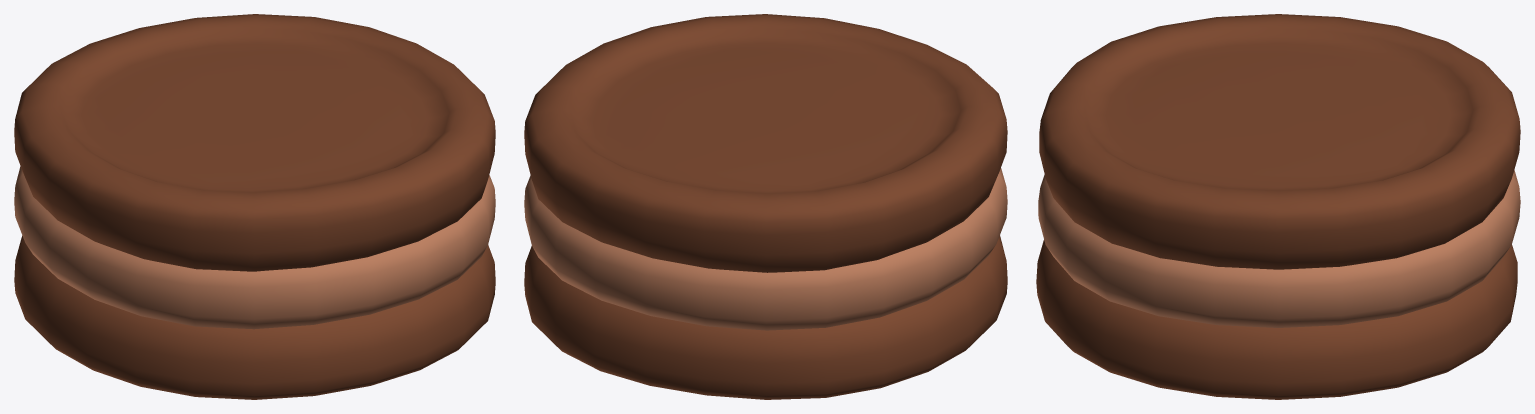
File: Biscuit_03.fbx
The picture shows the model from 3 angles, left to right: view 1: azimuth 30°, elevation 25°; view 2: azimuth 150°, elevation 25°; view 3: azimuth 270°, elevation 25°; orthographic projection.
Visible parts, largest first — view 1: Biscuit_03_LOD0; view 2: Biscuit_03_LOD0; view 3: Biscuit_03_LOD0.
Part boxes in pixels (x1=…): Biscuit_03_LOD0: x1=14, y1=14, x2=495, y2=399; Biscuit_03_LOD0: x1=524, y1=14, x2=1007, y2=399; Biscuit_03_LOD0: x1=1036, y1=14, x2=1520, y2=399.
Size of what is drawn, in the model's own units: 443 by 206 by 448.
